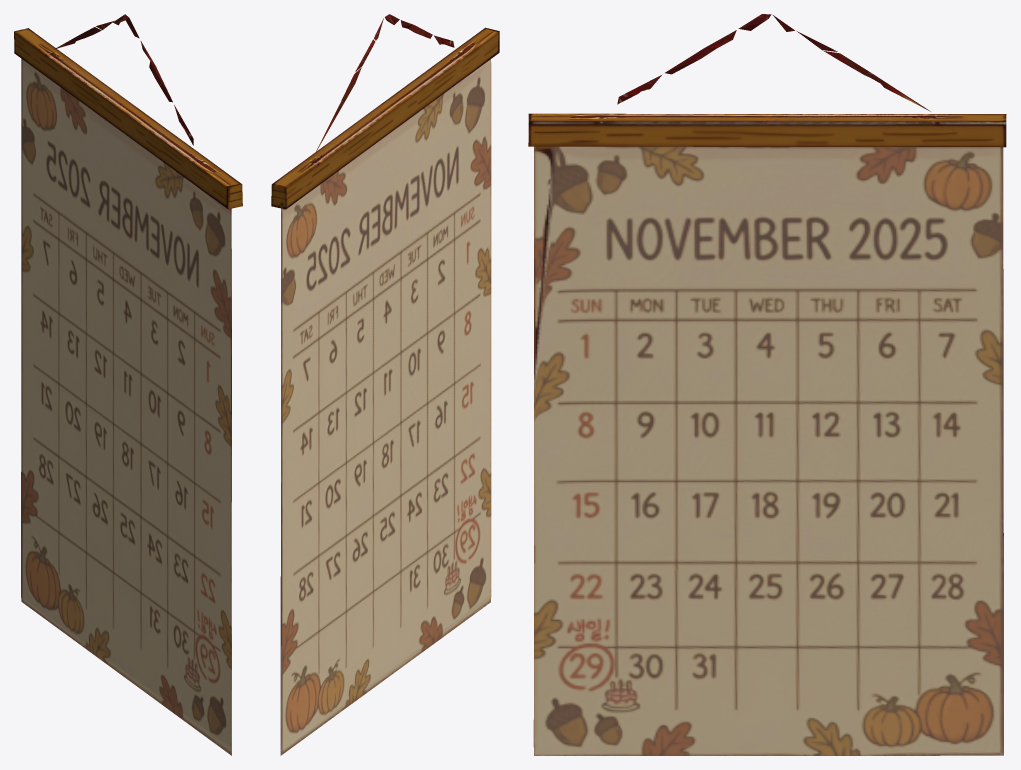
Rendered from calendar+wall+hanging+3d+model.fbx.
3 renders of one model, left to right at view 1: azimuth 30°, elevation 25°; view 2: azimuth 150°, elevation 25°; view 3: azimuth 270°, elevation 25°, orthographic. The views are drawn at different scales.
Visible parts, largest first — view 1: tripo_node_53ce96f5; view 2: tripo_node_53ce96f5; view 3: tripo_node_53ce96f5.
Part boxes in pixels (bbox=[...]): tripo_node_53ce96f5: bbox=[14, 14, 242, 755]; tripo_node_53ce96f5: bbox=[271, 14, 499, 755]; tripo_node_53ce96f5: bbox=[528, 14, 1006, 755].
Size of the model in its own units: 0.0276 by 0.9999 by 0.5839.
1 material, 1 textured.
